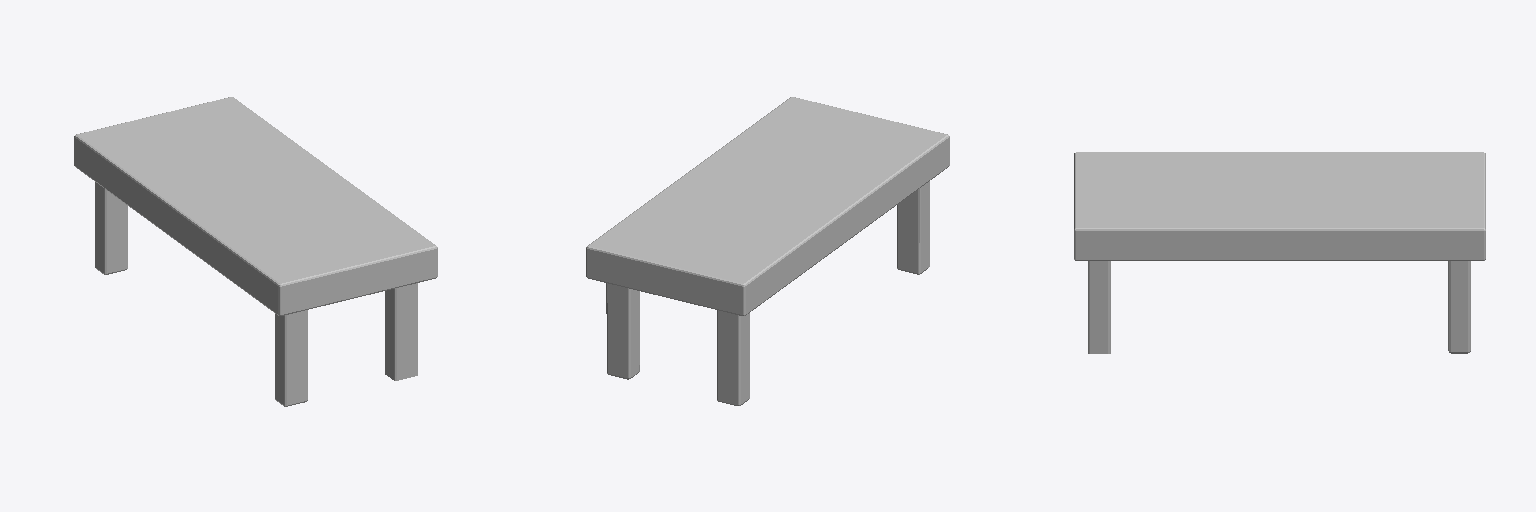
File: table.obj
The picture shows the model from 3 angles: view 1: azimuth 30°, elevation 25°; view 2: azimuth 150°, elevation 25°; view 3: azimuth 270°, elevation 25°; orthographic projection.
Parts seen in each view (by area): view 1: Table; view 2: Table; view 3: Table.
Boxes of the visible parts, x1=… form: Table: x1=74, y1=97, x2=437, y2=406; Table: x1=586, y1=97, x2=949, y2=405; Table: x1=1074, y1=152, x2=1485, y2=353.
Bounding box in the file's own units: 2.99 × 2.36 × 6.69.